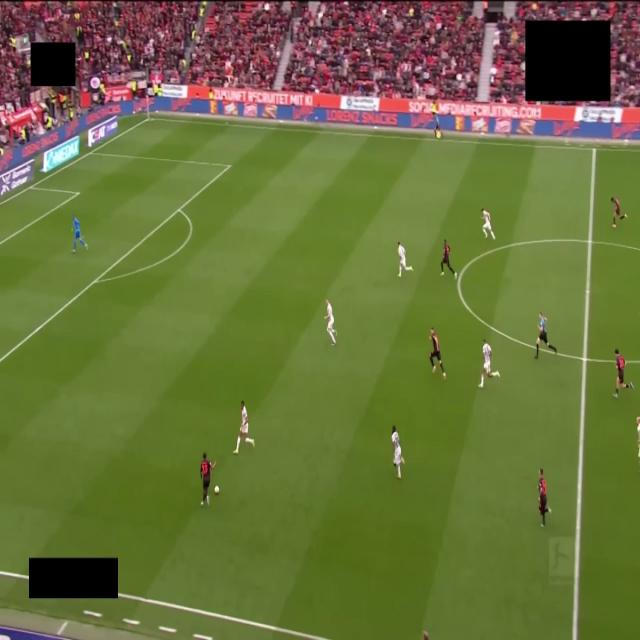ball: (214, 485, 220, 495)
player: (233, 401, 254, 454), (479, 340, 499, 388), (614, 350, 633, 398), (430, 328, 446, 379), (200, 453, 215, 505), (538, 469, 551, 527), (392, 426, 404, 479), (441, 240, 457, 279), (72, 216, 87, 253), (325, 299, 336, 345), (611, 197, 627, 228), (398, 242, 412, 277), (482, 208, 495, 239), (637, 417, 639, 469)
referee: (535, 312, 557, 359)
